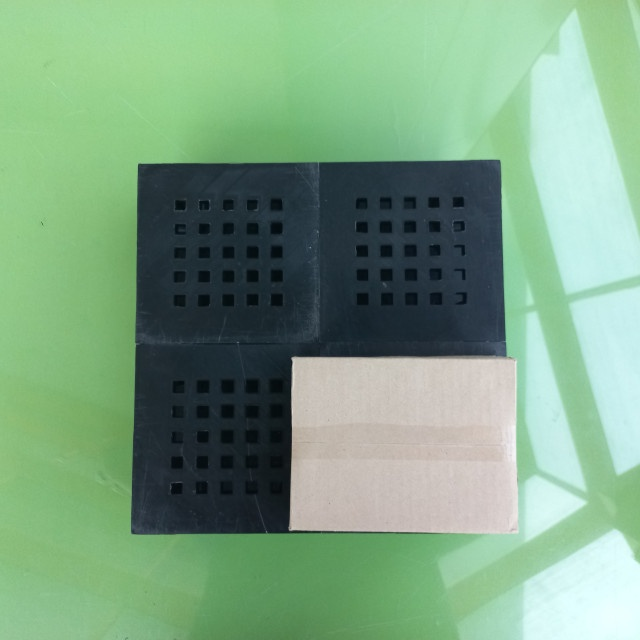box: (287, 353, 518, 533)
pallet: (124, 164, 518, 538)
